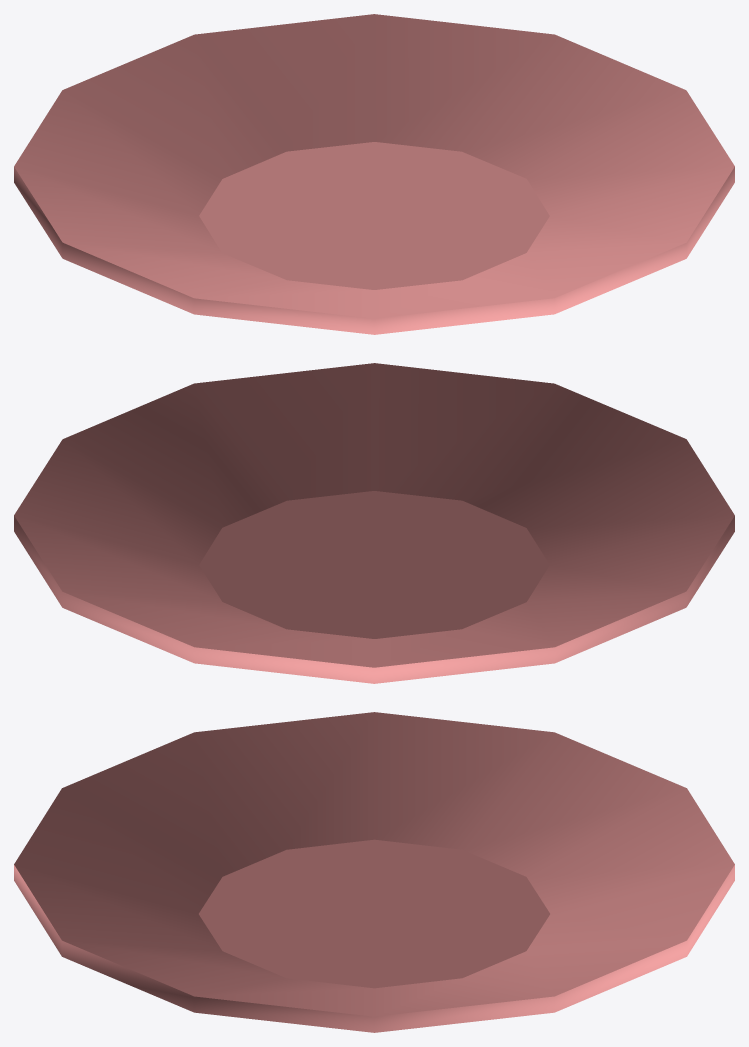
The model's file is TFYK_saucer.FBX.
3 views of the same model, one above another, from view 1: azimuth 30°, elevation 25°; view 2: azimuth 150°, elevation 25°; view 3: azimuth 270°, elevation 25° (orthographic).
Visible parts, largest first — view 1: TFYK_saucer; view 2: TFYK_saucer; view 3: TFYK_saucer.
Part boxes in pixels (x1,y1,x2,y2): TFYK_saucer: (14, 14, 734, 334); TFYK_saucer: (14, 363, 734, 683); TFYK_saucer: (14, 712, 734, 1032).
Bounding box in the file's own units: 0.1172 × 0.0127 × 0.1172.
